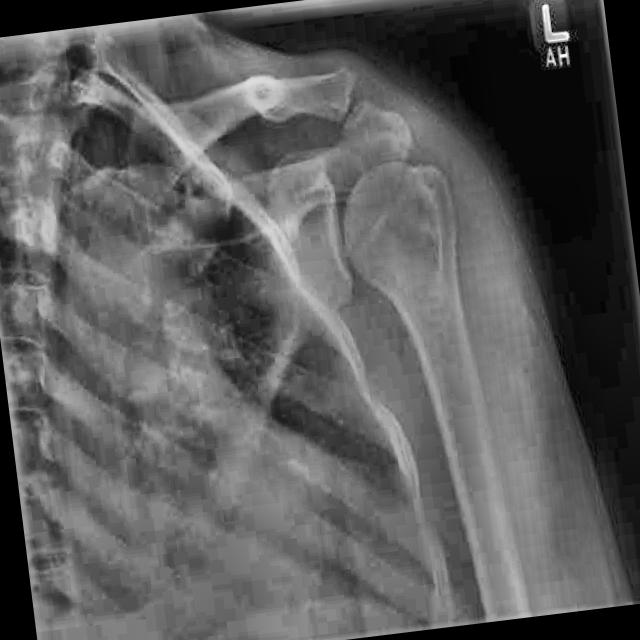shoulder fracture: (222, 61, 306, 141)
